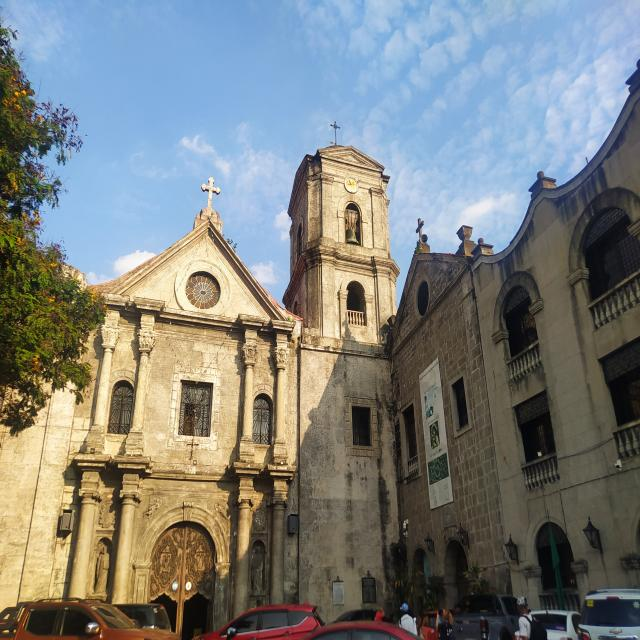San Agustin Church: (39, 116, 407, 626)
